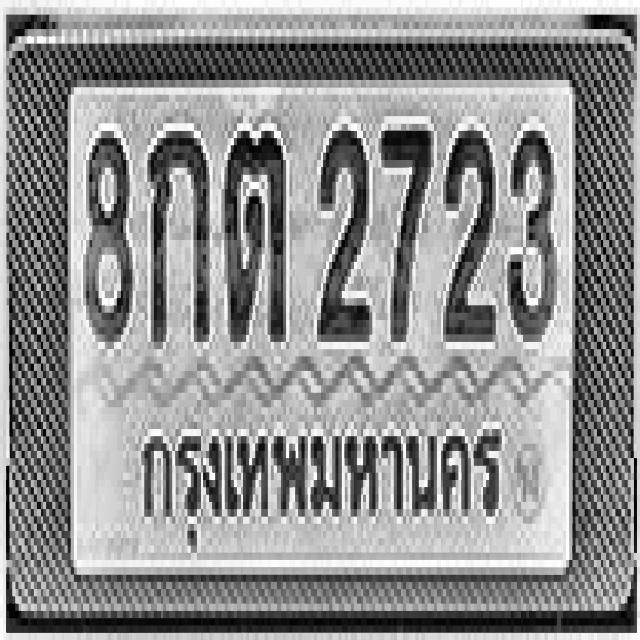license-plate: (10, 36, 634, 609)
